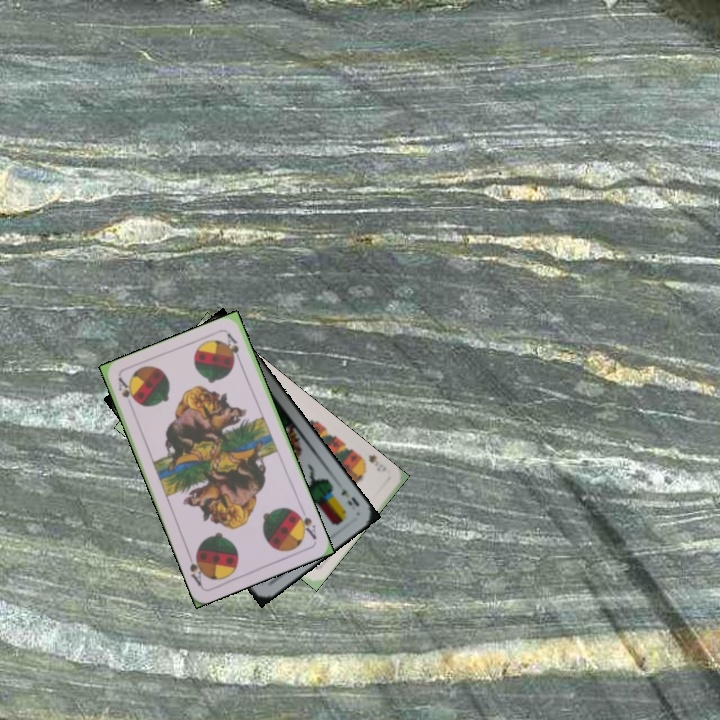EK: (334, 477, 362, 509)
S9: (354, 451, 382, 470)
SA: (291, 507, 319, 542), (114, 374, 138, 406)
